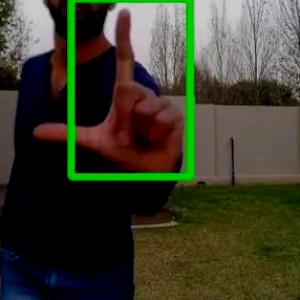land_hand: (30, 5, 187, 178)
